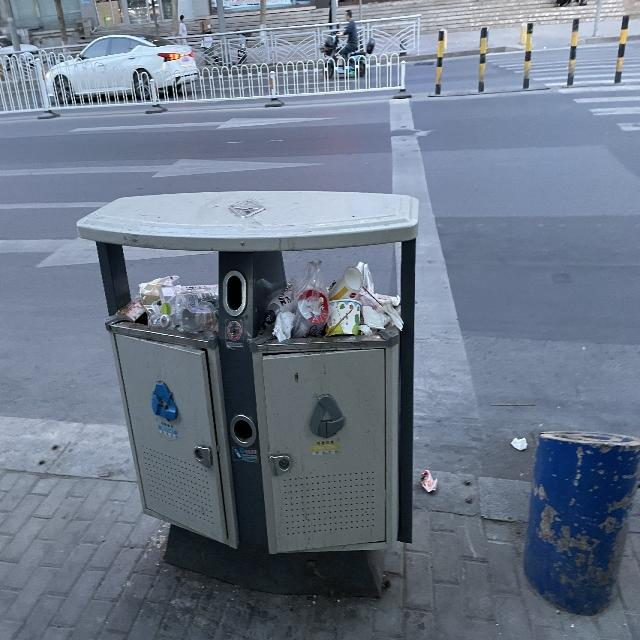overflow: (75, 191, 419, 598)
